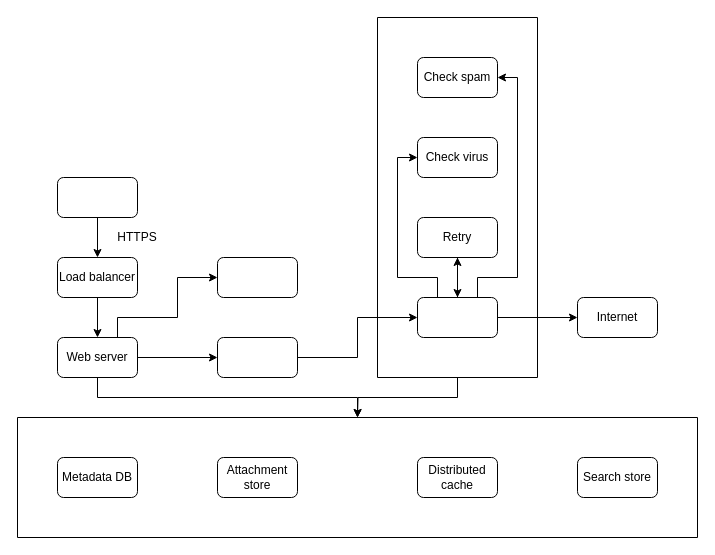
Image size: 715x555. Some labels were removed from this diagram. The shapes that lost their labels are listed below. From the top down, each one's centre as x and y in pixels, then its label:
the point at 97,197: Webmail
the point at 257,277: Error queue
the point at 457,317: SMTP outgoing
the point at 257,357: Outgoing queue
